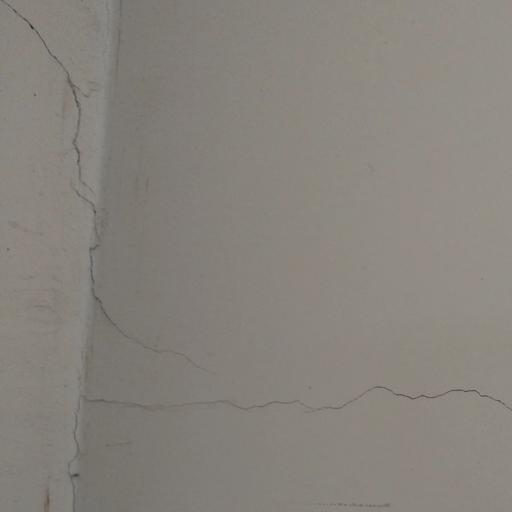minor_crack: (3, 0, 230, 386), (64, 348, 512, 422), (44, 390, 103, 512)
